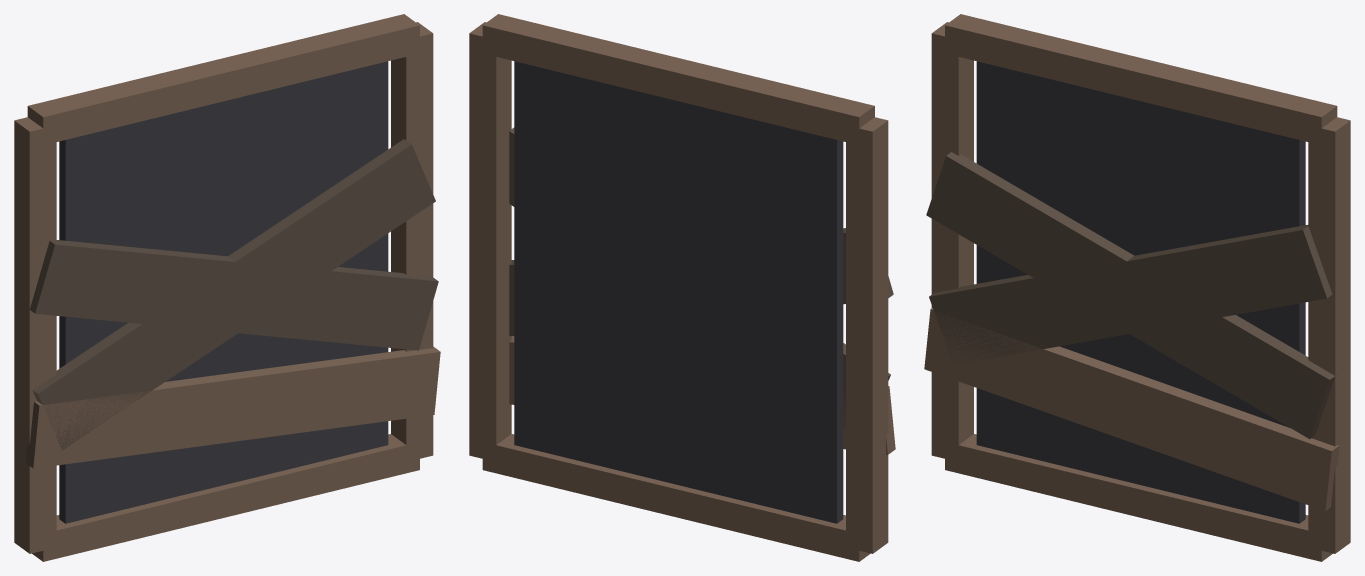
Rendered from prop_ita_mado.glb.
The picture shows the model from 3 angles, left to right: view 1: azimuth 30°, elevation 25°; view 2: azimuth 150°, elevation 25°; view 3: azimuth 330°, elevation 25°; orthographic projection.
Visible parts, largest first — view 1: ita_mado; view 2: ita_mado; view 3: ita_mado.
Part boxes in pixels (x1,y1,x2,y2): ita_mado: (14,14,440,561); ita_mado: (469,14,895,561); ita_mado: (924,14,1350,561).
Size of the model in its own units: 1.51 by 1.58 by 0.135.
